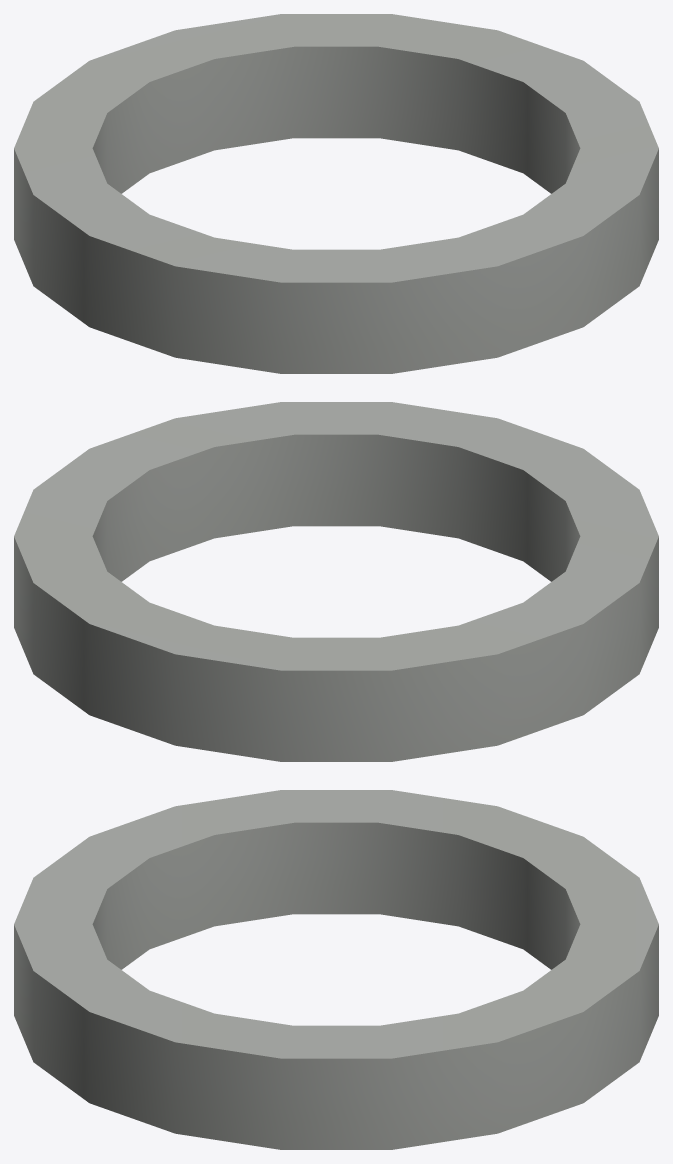
The picture shows the model from 3 angles, top to bottom: view 1: azimuth 30°, elevation 25°; view 2: azimuth 150°, elevation 25°; view 3: azimuth 270°, elevation 25°; orthographic projection.
Visible parts, largest first — view 1: Tube_C; view 2: Tube_C; view 3: Tube_C.
Part boxes in pixels (box(x1,y1,x2,y2)): Tube_C: box(14, 14, 658, 373); Tube_C: box(14, 402, 658, 761); Tube_C: box(14, 790, 658, 1149).
Bounding box in the file's own units: 179 × 28.38 × 182.
